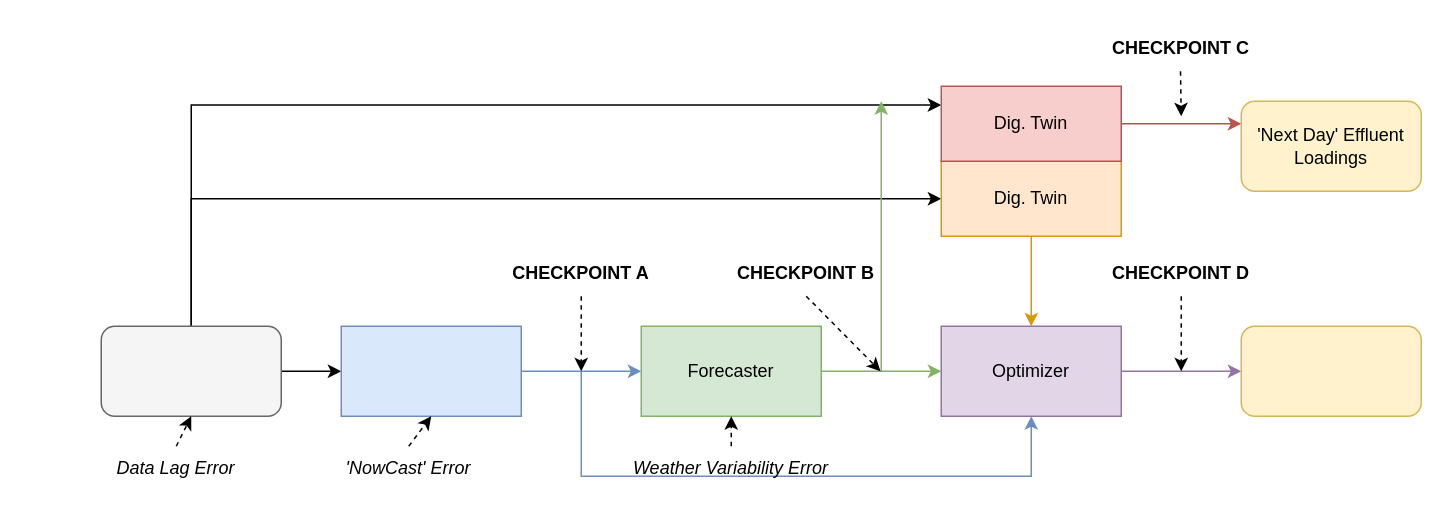
Some shapes in this 1448 by 516 pixel diagram are drawn without their labels. The centre of each missing label's shape, as x and y in pixels:
Alum Dosing Recommendations: [1330,370]
Data Ingestion Data Cleaning Autocalibration: [190,370]
SS: [430,370]
